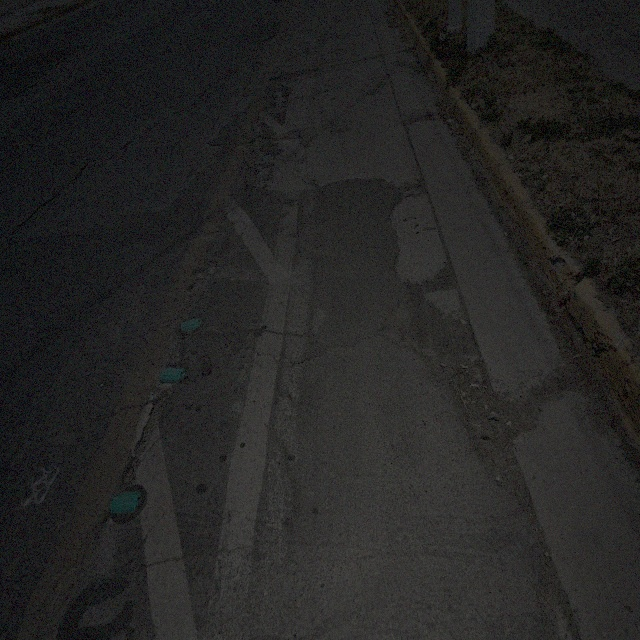pothole: (422, 253, 530, 511), (390, 285, 482, 370), (390, 187, 447, 271), (280, 124, 305, 142), (246, 135, 274, 150)
